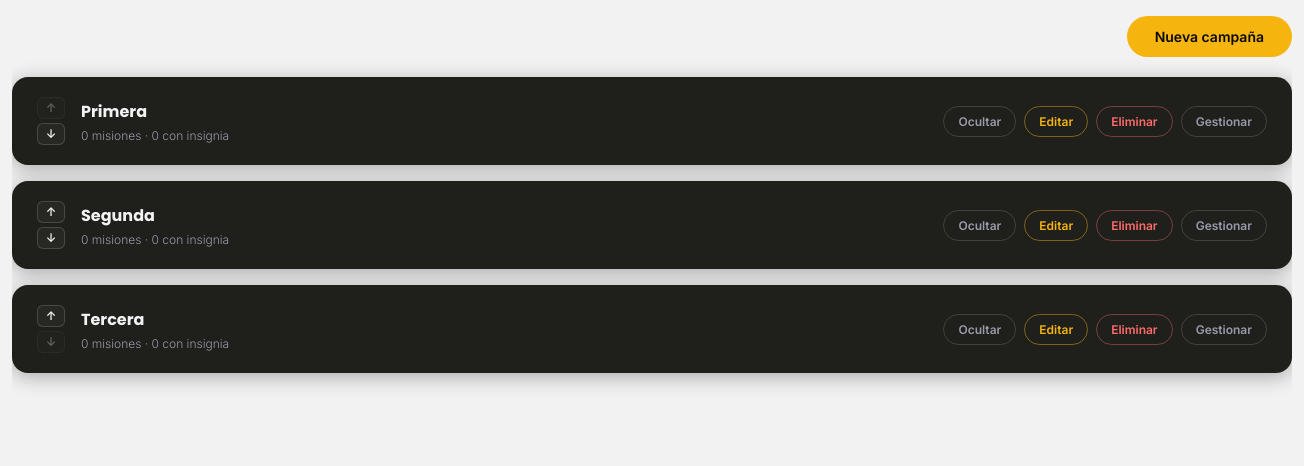
Test: reordering campaigns › reports the error and refetches when the swap fails
The width and height of the screenshot is (1304, 466).
Expected: the heading "Primera" is shown, [81,100,147,123]
Click the button named "subir segunda" at (51, 212), box [37,201,65,223]
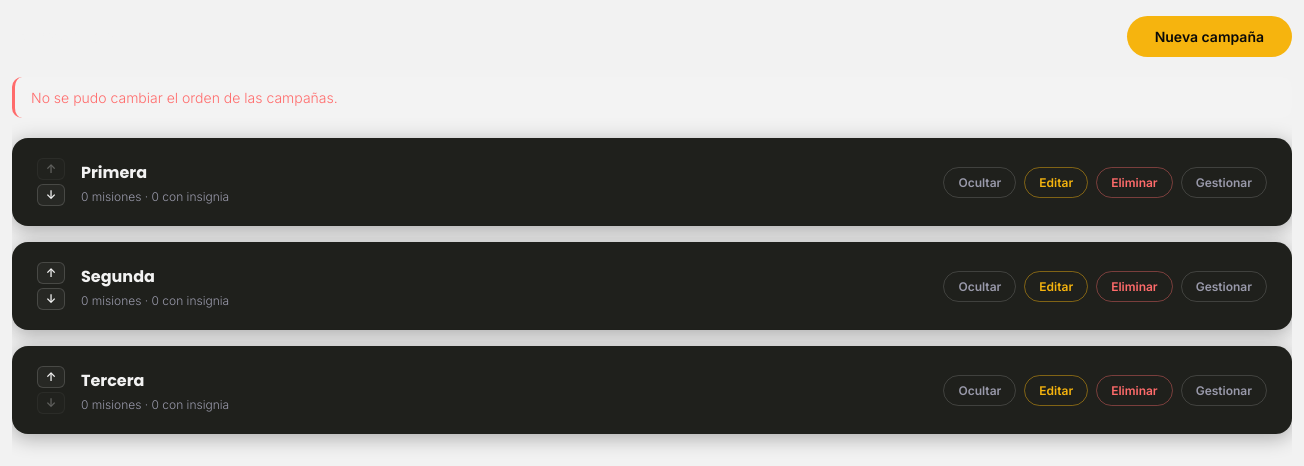
Expected: the message shows "No se pudo cambiar el orden", [31,89,338,106]
